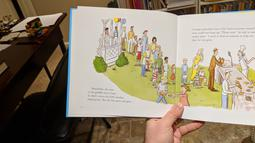text block: (187, 22, 255, 45), (84, 85, 133, 104)
